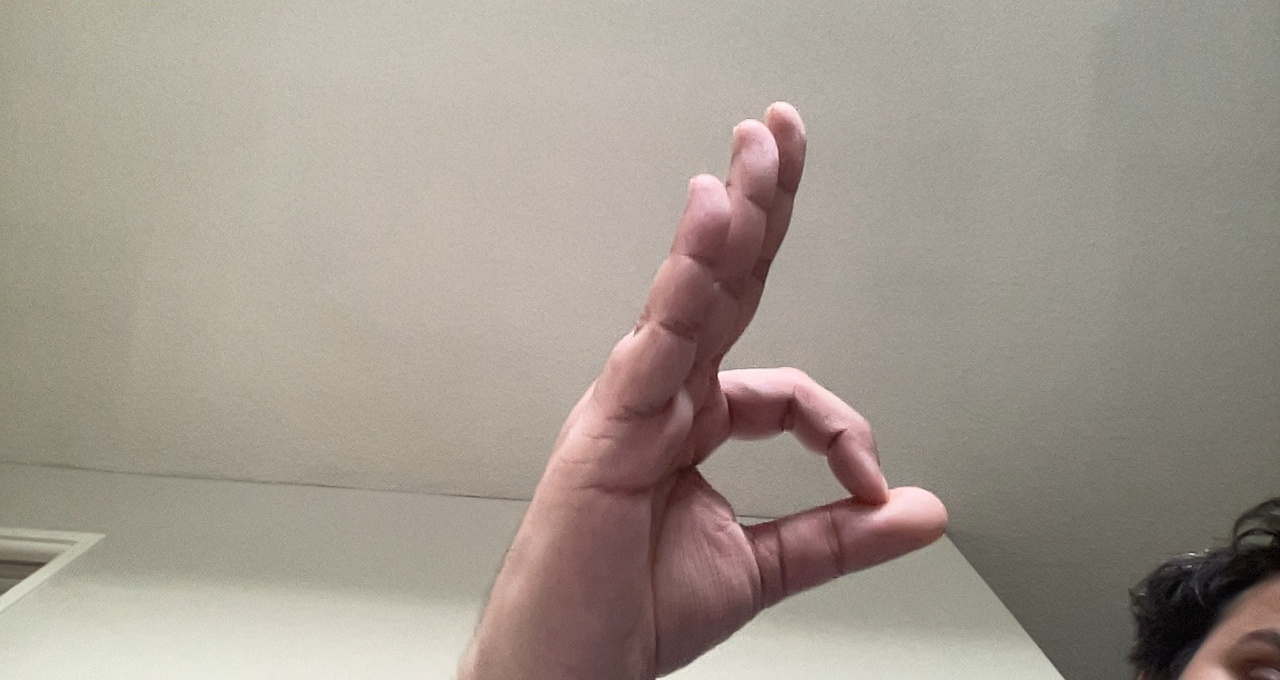ok: (473, 84, 954, 656)
